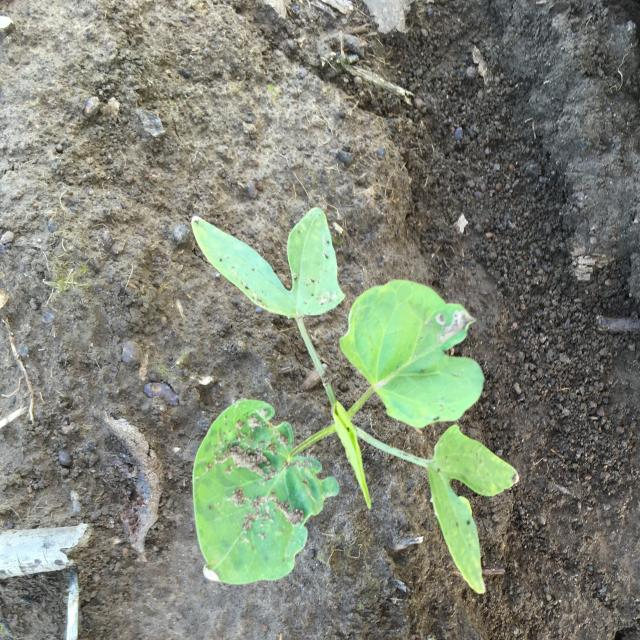MorningGlory: (192, 206, 518, 594)
